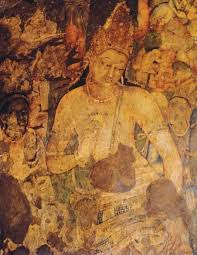Bodhisatva Padampani: (7, 5, 192, 246)
